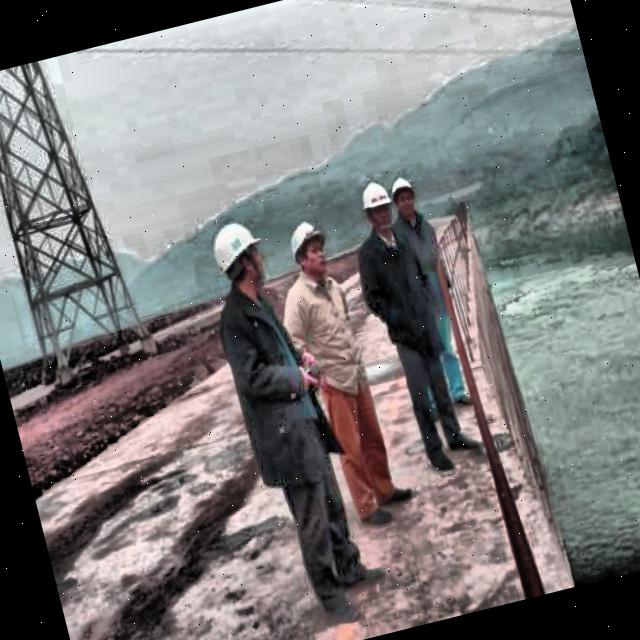helmet: (200, 209, 278, 310), (282, 212, 334, 281), (356, 175, 398, 235), (386, 173, 422, 220)
